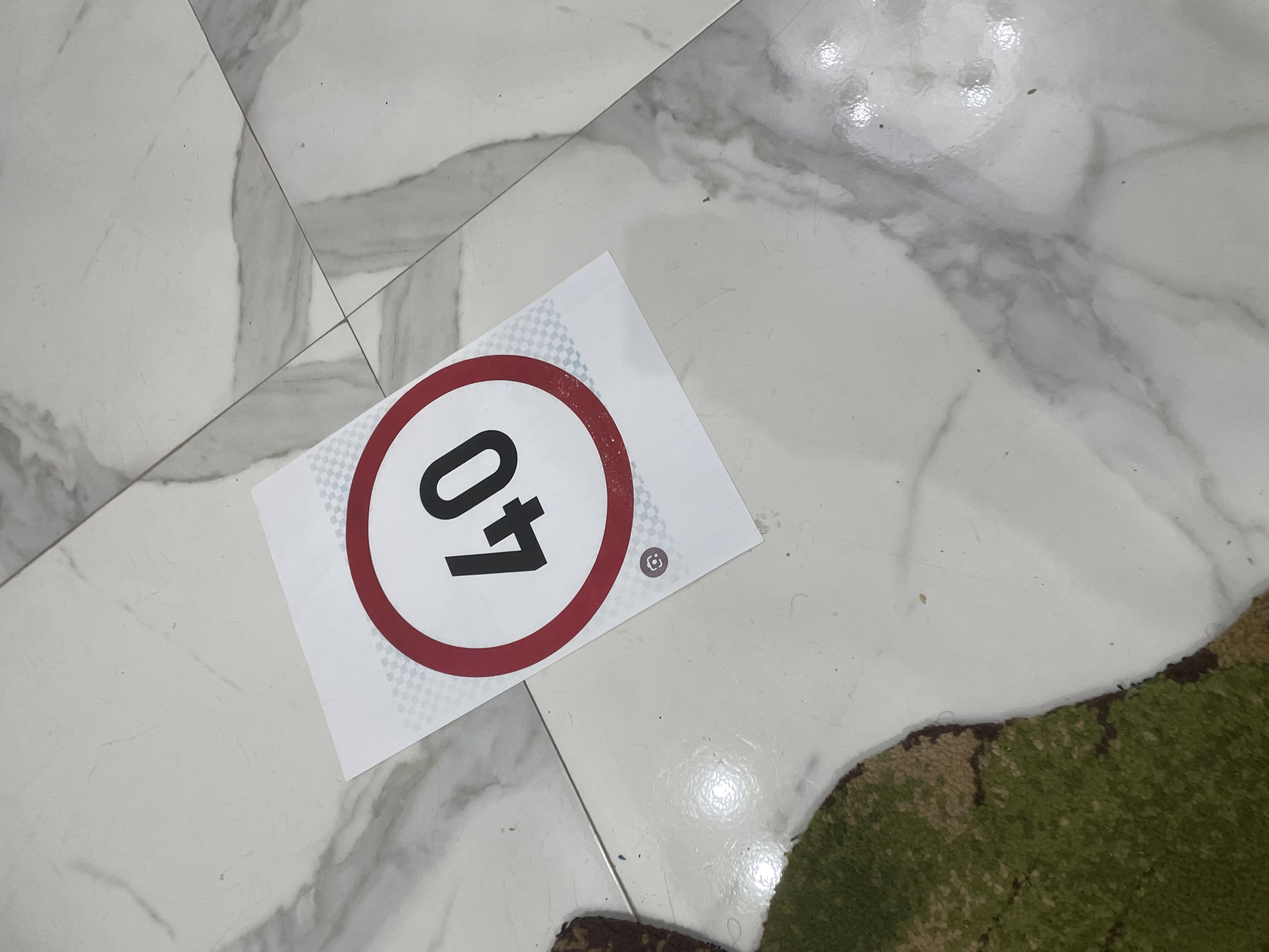40-Speed: (361, 252, 801, 478)
